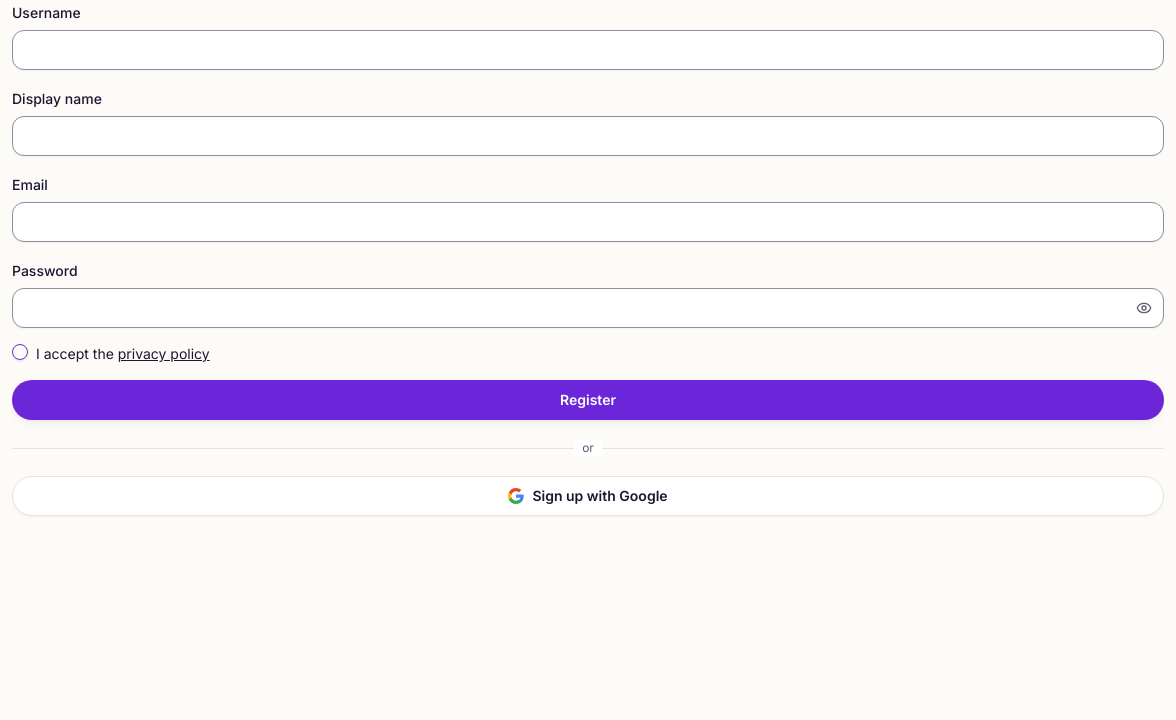
Test: RegisterForm › requires accepting the privacy policy
Type "new@example.com" into the field with test id "email-input" at (588, 222), box [12,202,1164,242]
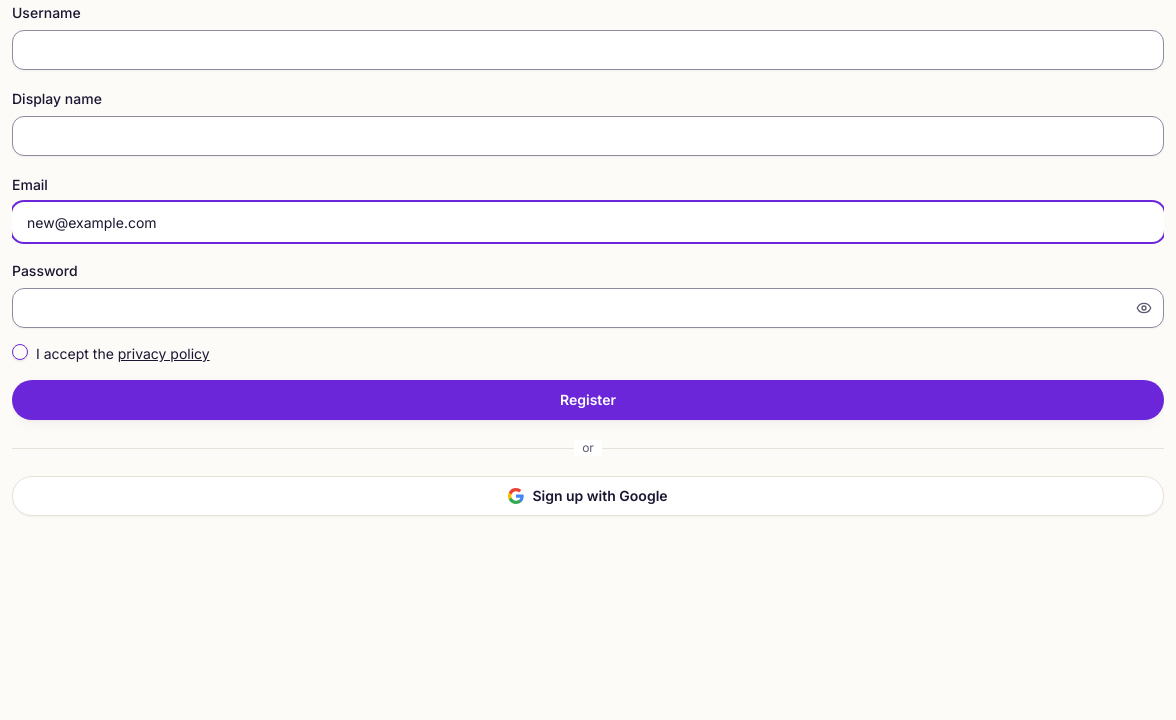
Type "New User" into the field with test id "display-name-input" at (588, 136), box [12,116,1164,156]
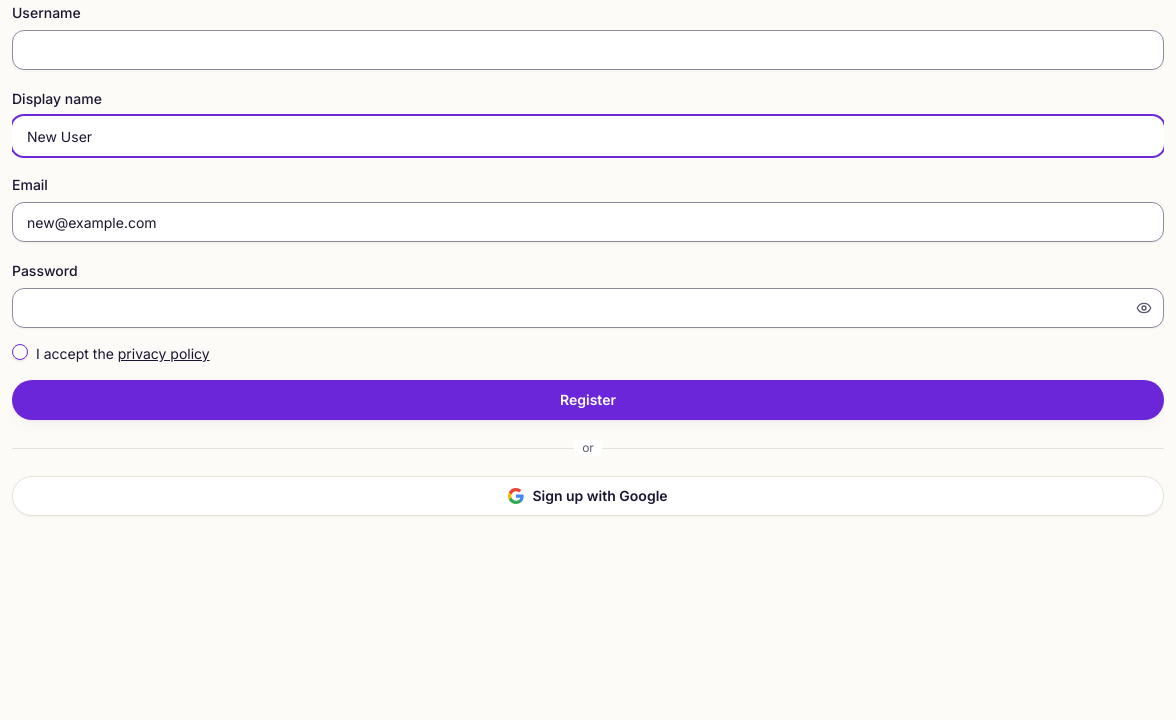
Type "newuser" into the field with test id "username-input" at (588, 50), box [12,30,1164,70]
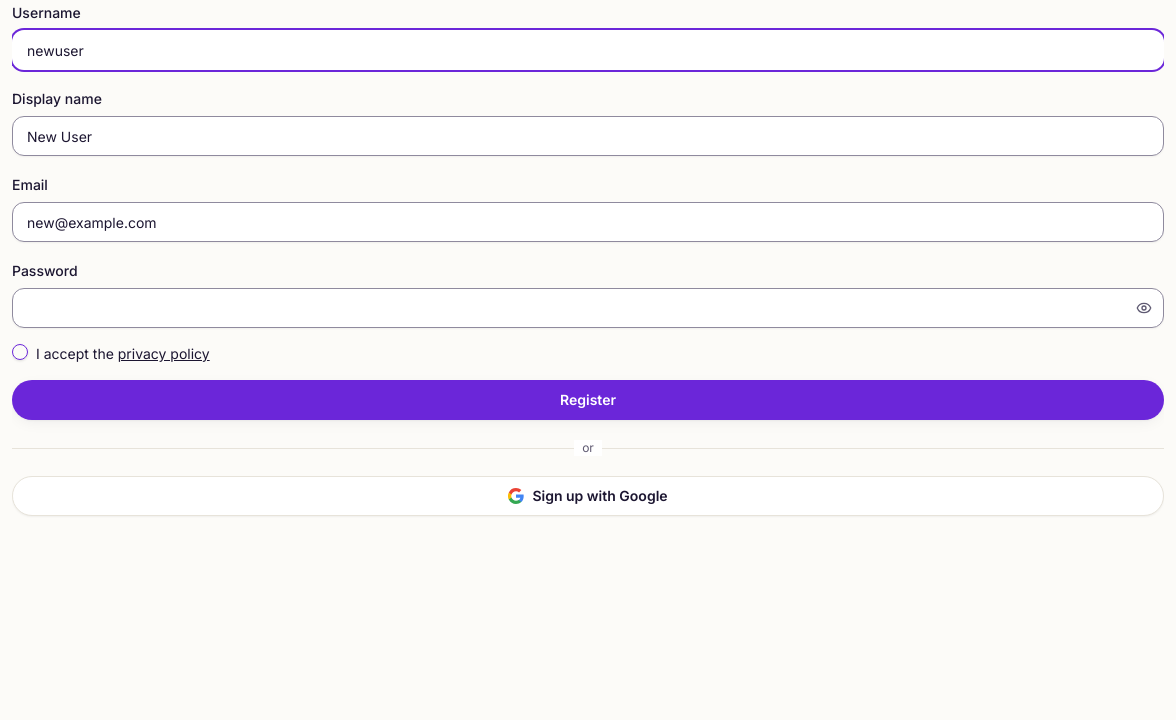
Type "password123" into the password field with test id "password-input" at (588, 308), box [12,288,1164,328]
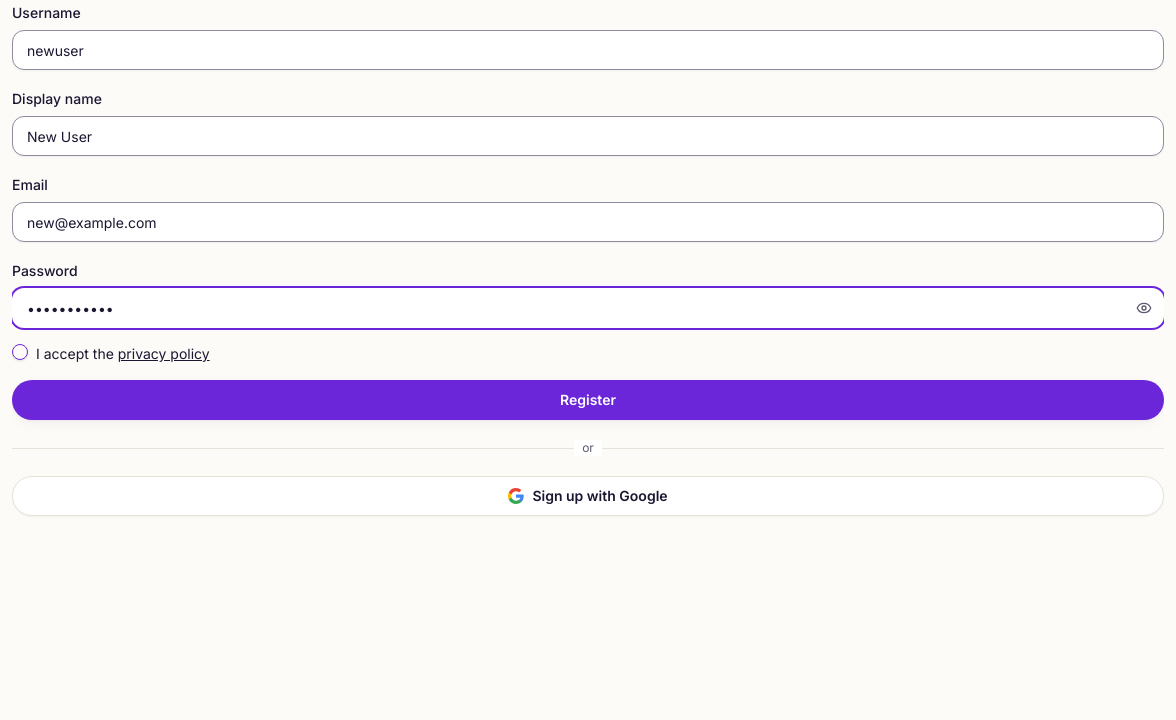
Click the button with test id "submit-button" at (588, 400), box [12,380,1164,420]
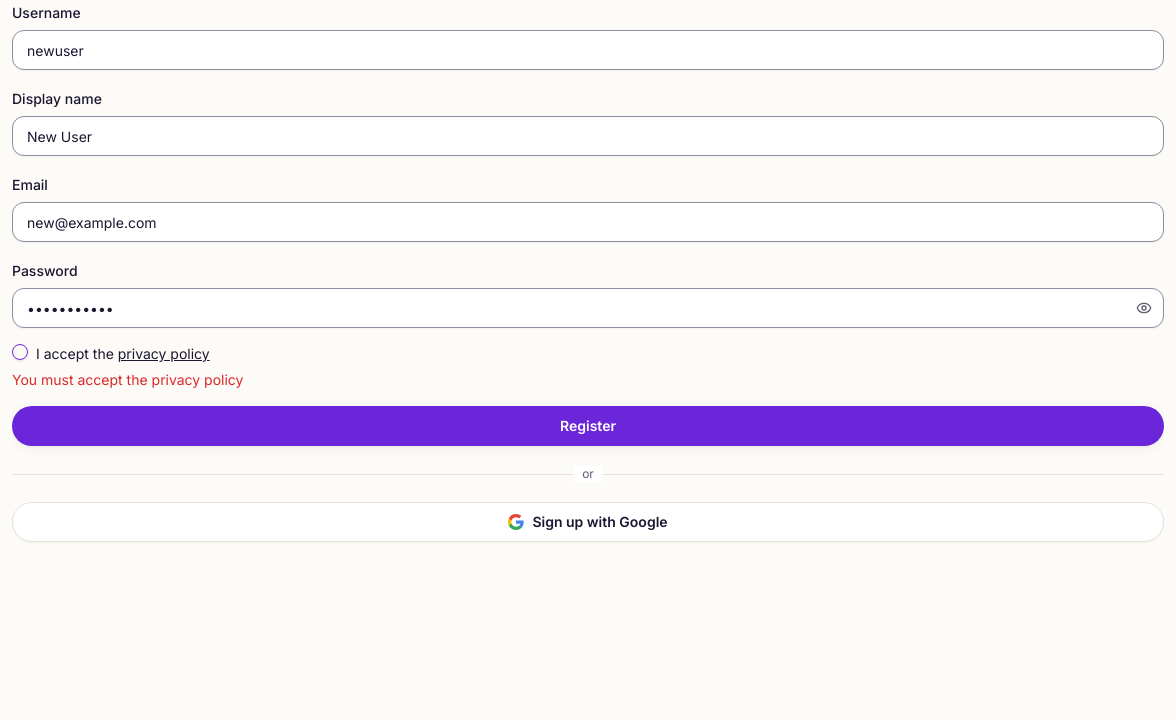
Expected: the text "You must accept the privacy policy" is shown, [12,371,244,388]
